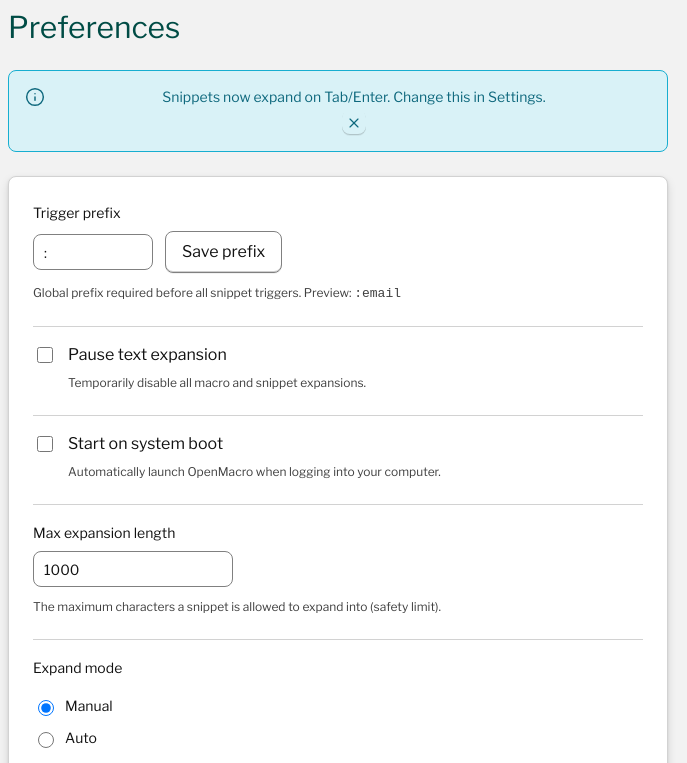
Scenario: PrefsPanel › upgrade (expand_mode_missing is true) shows migration notice, and dismiss persists setting to manual
The width and height of the screenshot is (687, 763).
Check: the text "Snippets now expand on Tab/Enter. Change this in Settings." is shown, box [162,87,546,107]
Dismiss the notice
Click the button named "dismiss migration notice": (354, 123) [342,111,366,135]
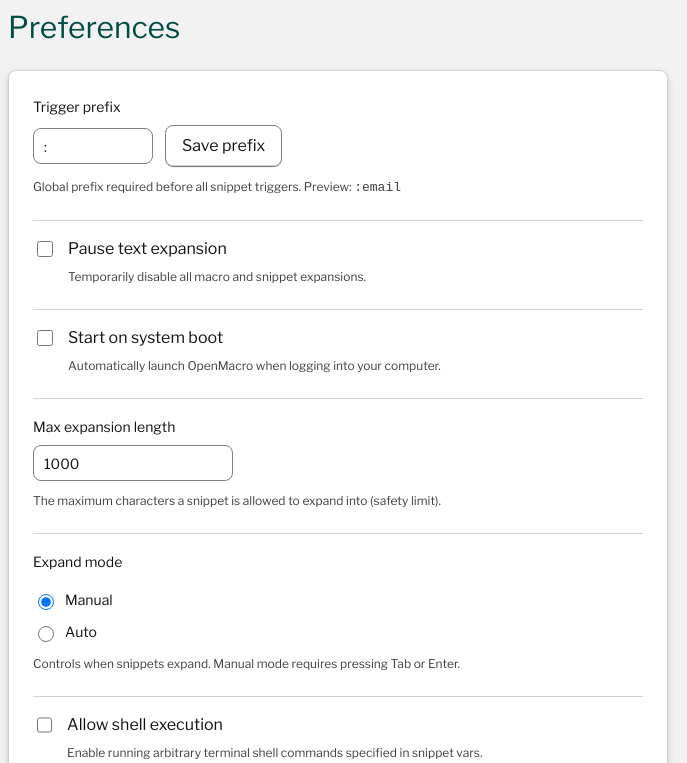
Check: the text "Snippets now expand on Tab/Enter" is gone
